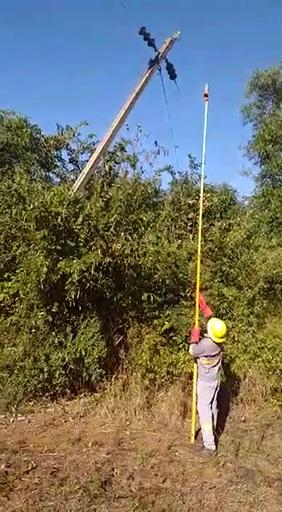Detector_Tensao_Contato: (202, 81, 210, 104)
Vara_Manobra: (188, 100, 208, 446)
